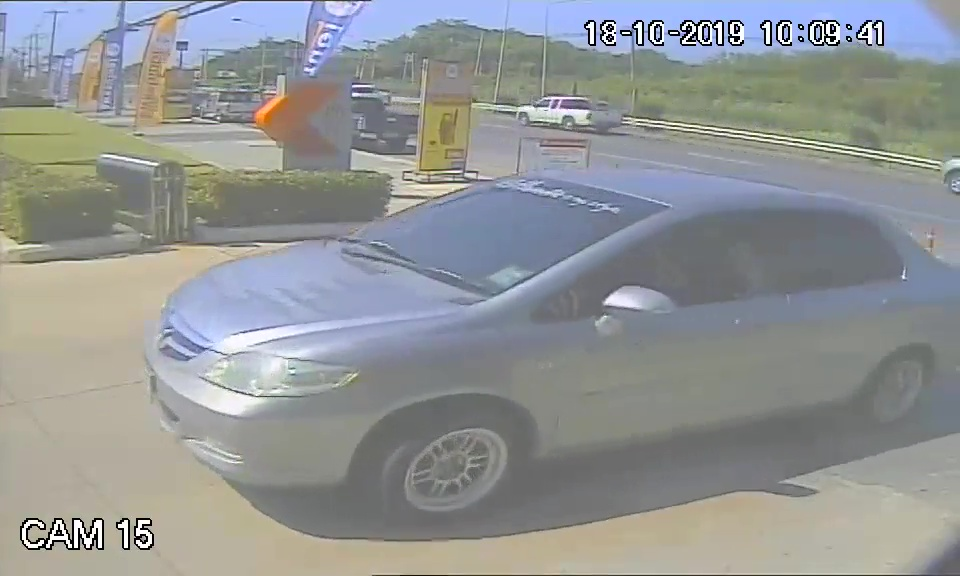sedan: (133, 165, 952, 520)
